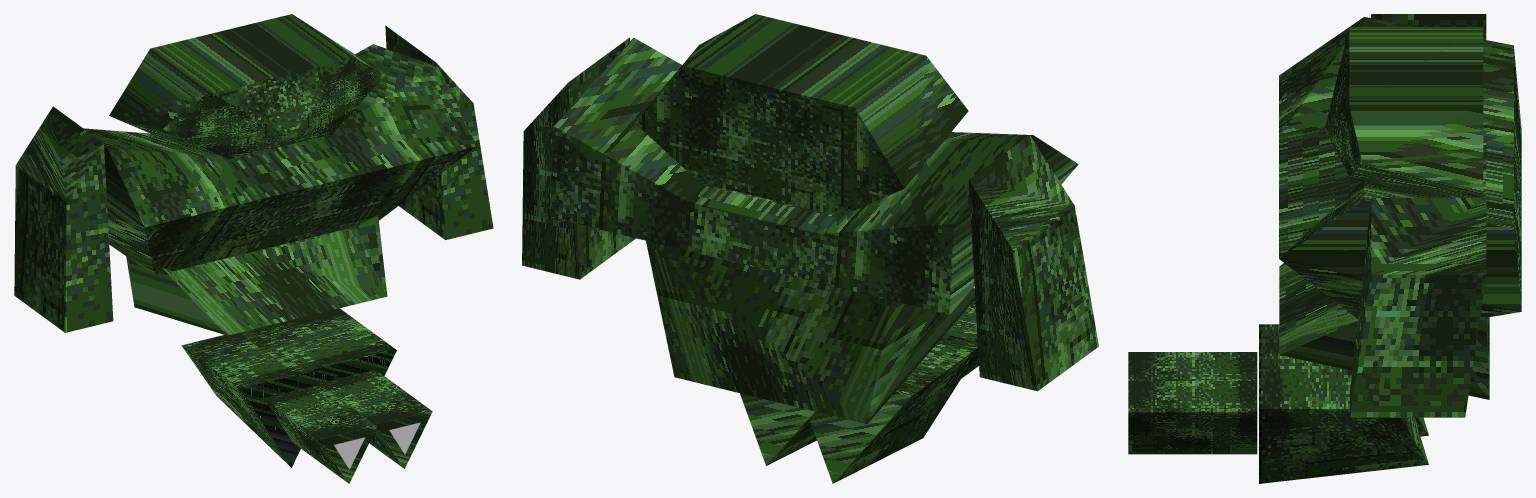
Rendered from model_012_robot_noname.glb.
3 views of the same model, side by side, from view 1: azimuth 30°, elevation 25°; view 2: azimuth 150°, elevation 25°; view 3: azimuth 270°, elevation 25° (orthographic). The views are drawn at different scales.
Visible parts, largest first — view 1: model_012; view 2: model_012; view 3: model_012.
Boxes of the visible parts, bbox=[...] form: model_012: bbox=[14, 14, 493, 483]; model_012: bbox=[522, 14, 1098, 483]; model_012: bbox=[1128, 14, 1521, 483].
Size of the model in its own units: 9.58 by 7.63 by 6.74.
2 materials, 1 textured.
